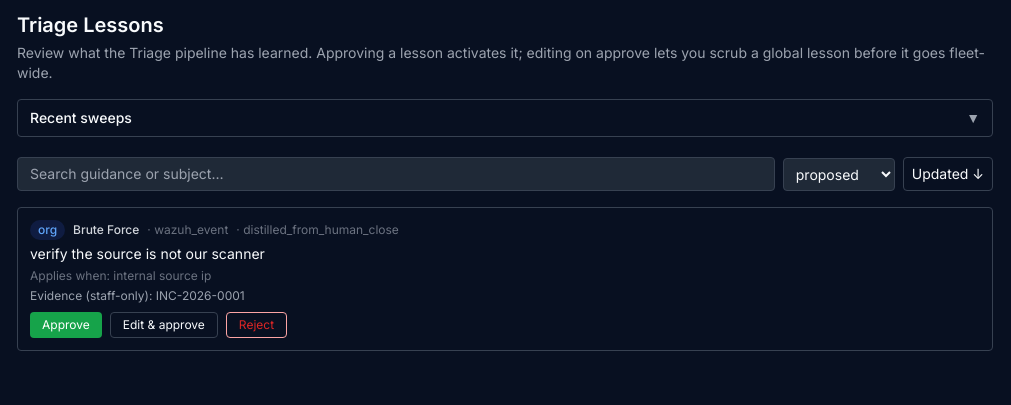
Test: TriageLessonsReview — recent sweeps (#697) › surfaces a sweep-fetch failure without breaking the page
Expected: the text "verify the source is not our scanner" is shown, [30, 245, 265, 262]
Click the text "Recent sweeps".
click(81, 118)  # box [30, 108, 132, 128]
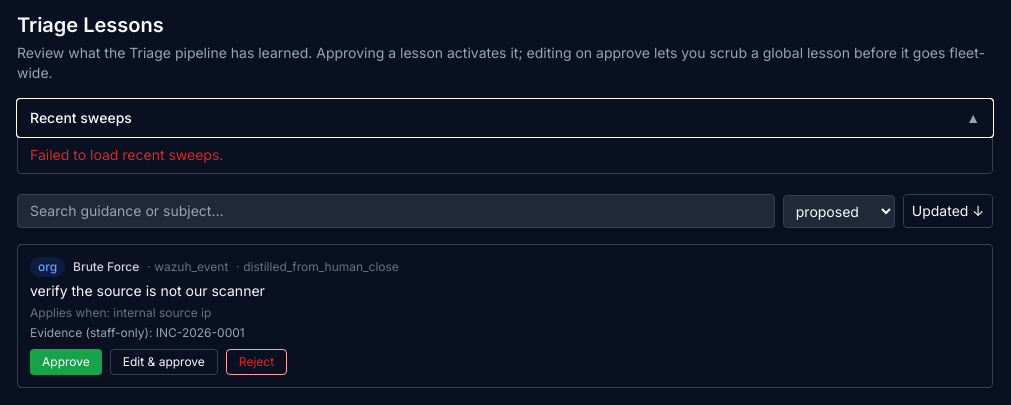
Expected: the text "Failed to load recent sweeps." is shown, [30, 146, 223, 163]
